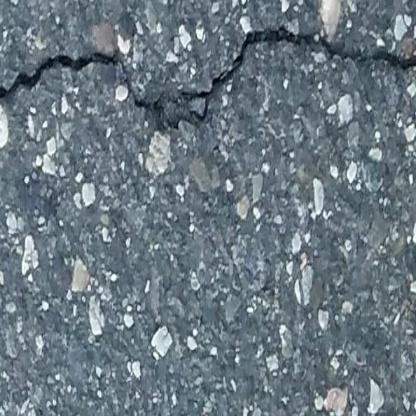Cracks: (0, 22, 416, 136)
